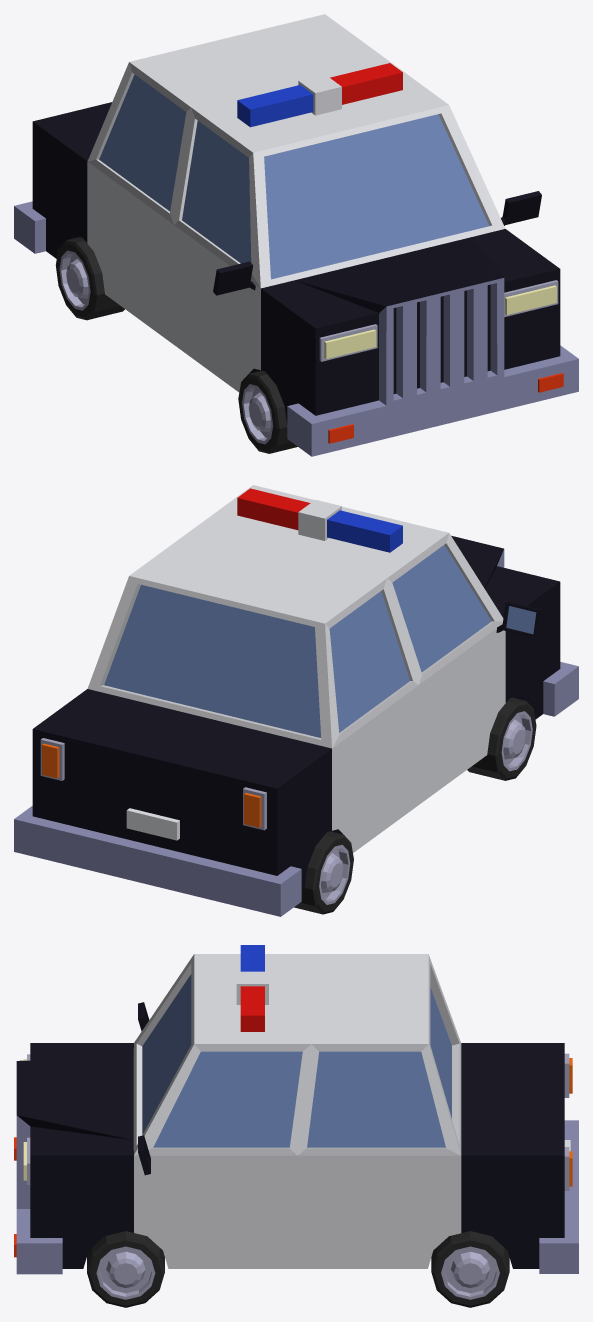
The model's file is lowPoly_policeCar.fbx.
The picture shows the model from 3 angles, top to bottom: view 1: azimuth 30°, elevation 25°; view 2: azimuth 150°, elevation 25°; view 3: azimuth 270°, elevation 25°; orthographic projection. The views are drawn at different scales.
Parts seen in each view (by area): view 1: POLIZIA; view 2: POLIZIA; view 3: POLIZIA.
Part boxes in pixels (x1,y1,x2,y2): POLIZIA: (14,14,578,456); POLIZIA: (14,485,578,916); POLIZIA: (14,945,578,1307).
Size of the model in its own units: 263 by 224 by 424.
1 material, 1 textured.
